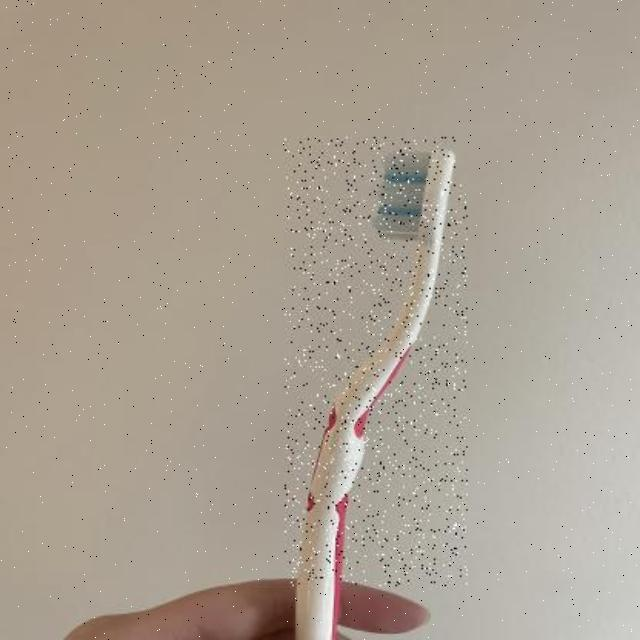toothbrush: (284, 138, 468, 586)
